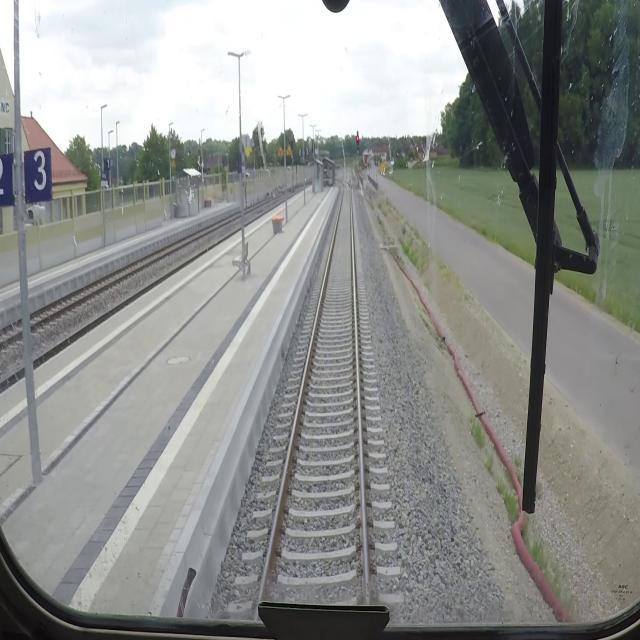rail-track: (262, 180, 364, 596), (30, 210, 241, 324), (243, 190, 284, 212), (0, 320, 21, 341)
